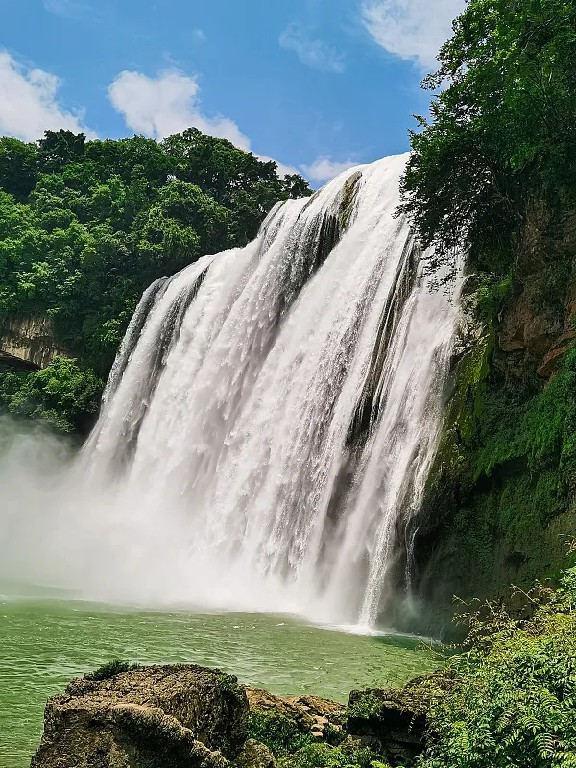Huangguoshu: (78, 151, 458, 635)
